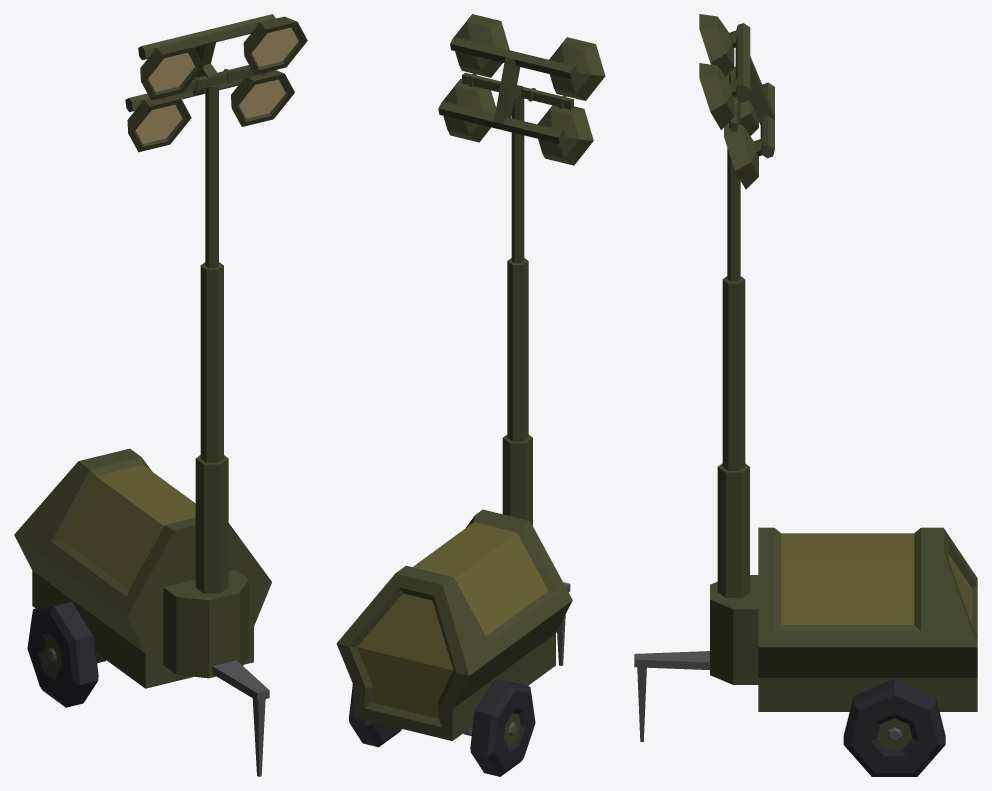
The model's file is LPWarPack_GeneratorLight_001.fbx.
3 views of the same model, side by side, from view 1: azimuth 30°, elevation 25°; view 2: azimuth 150°, elevation 25°; view 3: azimuth 270°, elevation 25° (orthographic). The views are drawn at different scales.
Parts seen in each view (by area): view 1: GeneratorLight.001; view 2: GeneratorLight.001; view 3: GeneratorLight.001.
Part boxes in pixels (box(x1,y1,x2,y2)): GeneratorLight.001: box(14, 14, 307, 776); GeneratorLight.001: box(336, 14, 605, 776); GeneratorLight.001: box(634, 14, 977, 776).
Size of the model in its own units: 86.02 by 353 by 158.
